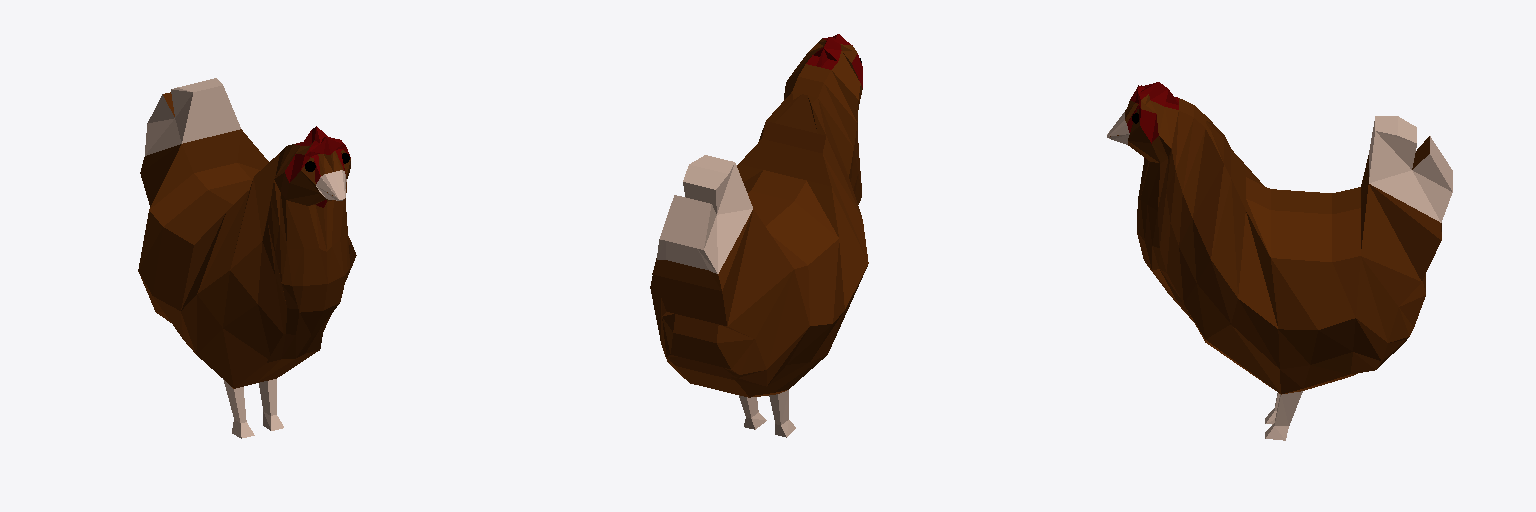
Rendered from firebreathingchicken.obj.
The picture shows the model from 3 angles: view 1: azimuth 30°, elevation 25°; view 2: azimuth 150°, elevation 25°; view 3: azimuth 270°, elevation 25°; orthographic projection.
Visible parts, largest first — view 1: Icosphere; view 2: Icosphere; view 3: Icosphere.
Boxes of the visible parts, <box> form: Icosphere: <box>138,78,356,438</box>; Icosphere: <box>650,34,868,437</box>; Icosphere: <box>1107,82,1452,440</box>.
Bounding box in the file's own units: 2.68 × 5.3 × 4.76.